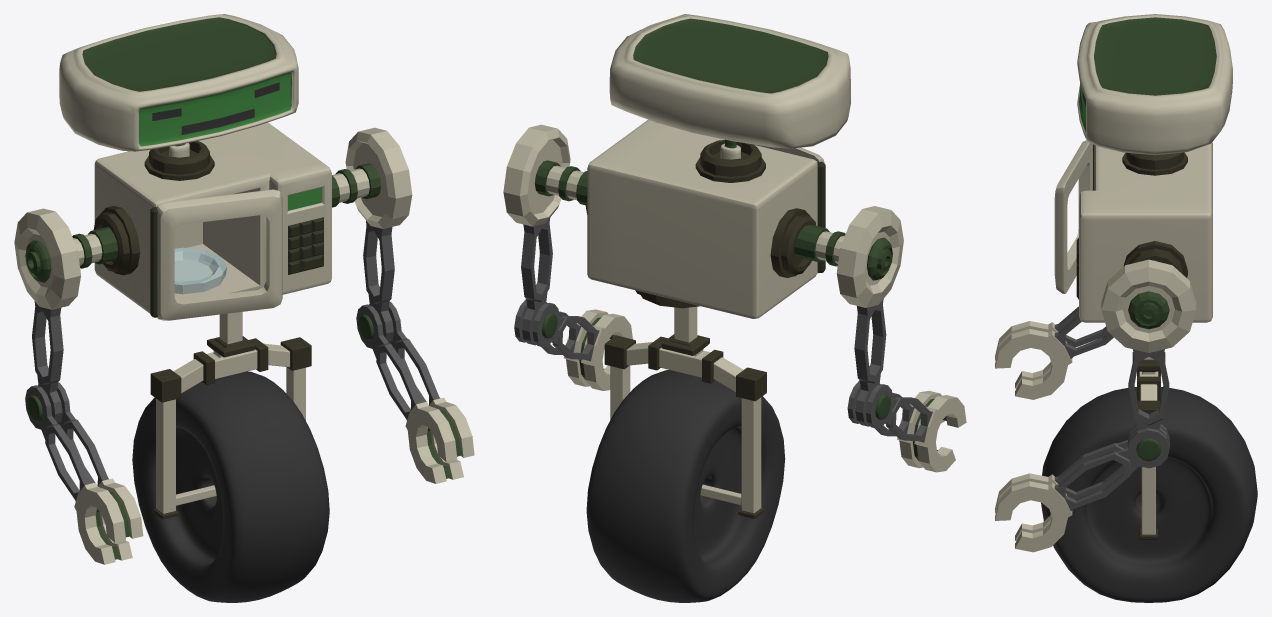
Rendered from npcRobo1 (1).fbx.
3 renders of one model, left to right at view 1: azimuth 30°, elevation 25°; view 2: azimuth 150°, elevation 25°; view 3: azimuth 270°, elevation 25°, orthographic. The views are drawn at different scales.
Visible parts, largest first — view 1: npcRobo1; view 2: npcRobo1; view 3: npcRobo1.
Boxes of the visible parts, x1=… form: npcRobo1: x1=14, y1=14, x2=474, y2=602; npcRobo1: x1=503, y1=14, x2=966, y2=602; npcRobo1: x1=995, y1=14, x2=1257, y2=602.
Bounding box in the file's own units: 45.35 × 64.56 × 29.97.
